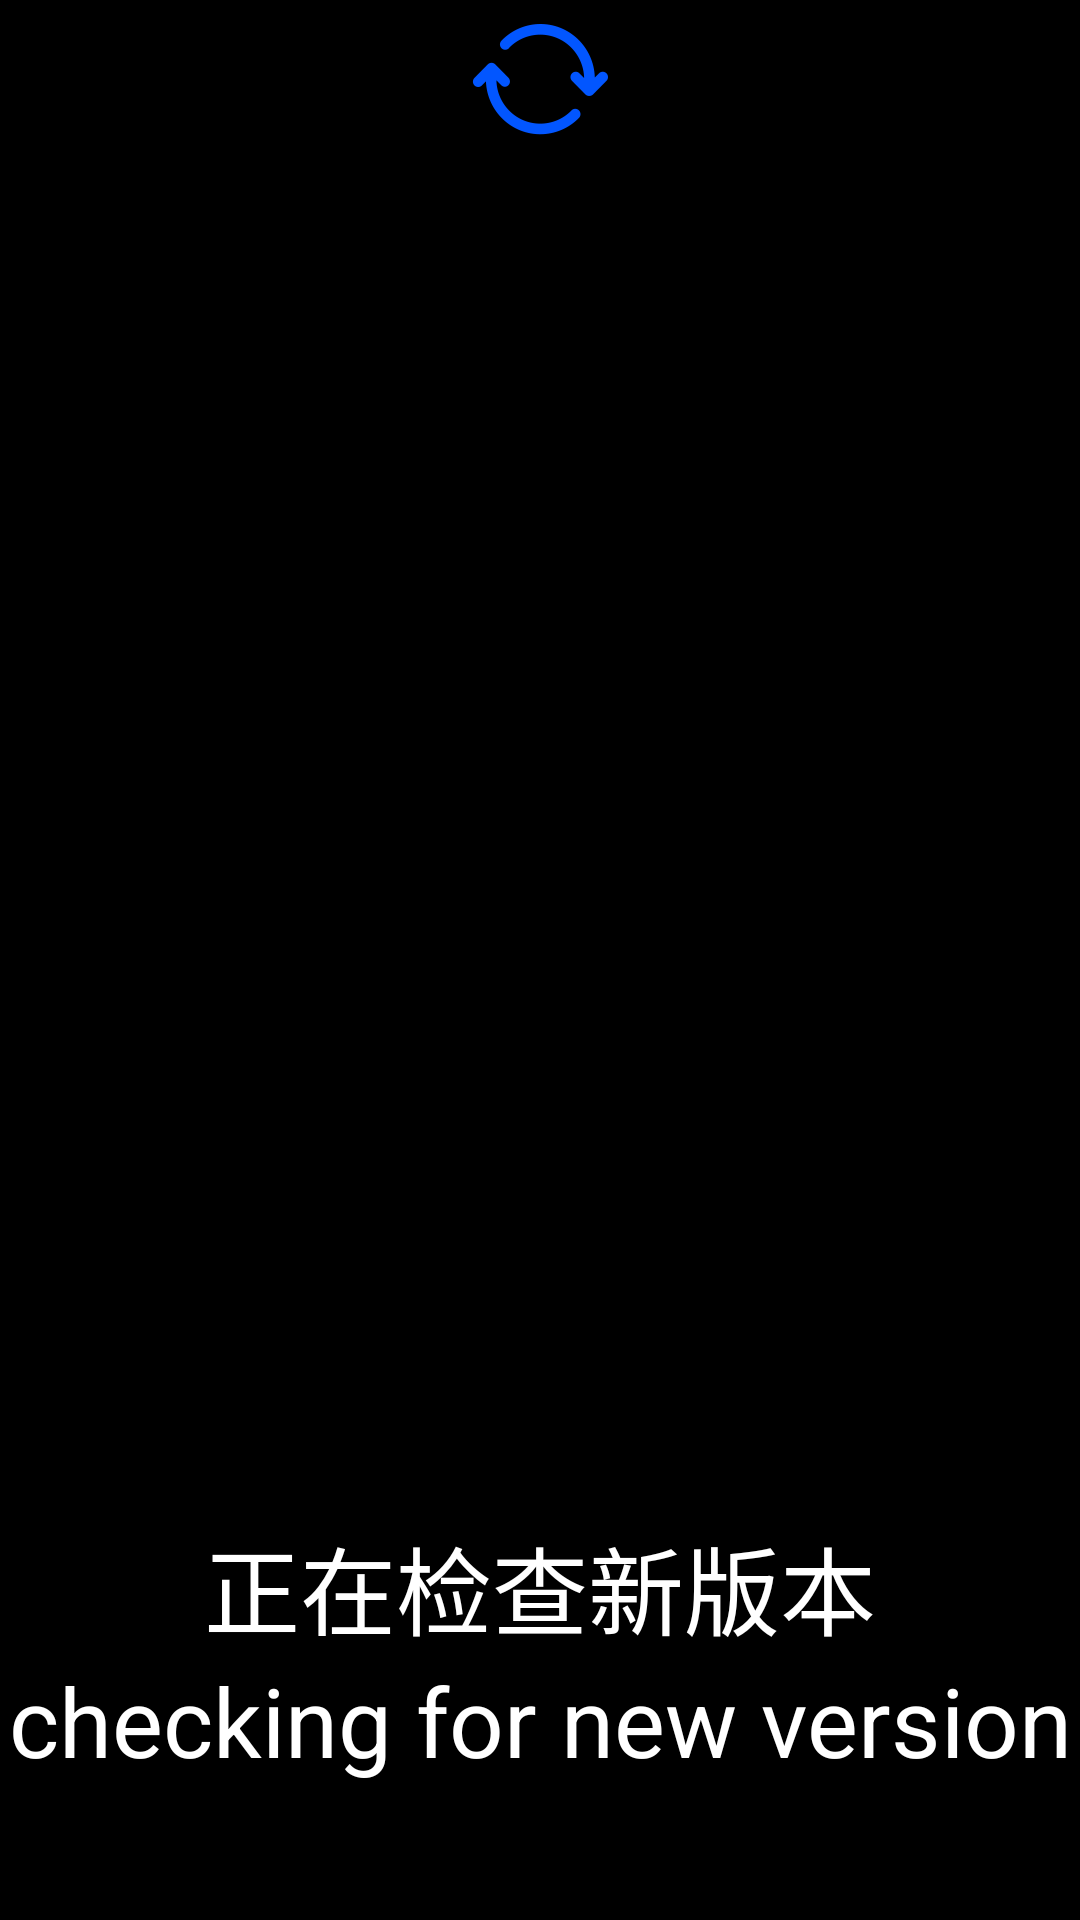

Screen size 1080*1920. Icon name, then its box in pixels as (x1, y1, x2, y2):
ota request: (473, 24, 608, 135)
